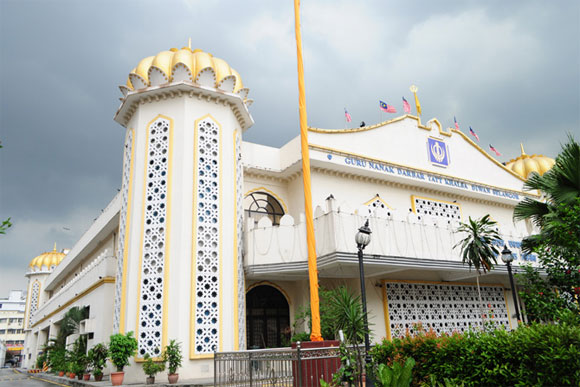Gurdwara: (22, 28, 536, 335)
